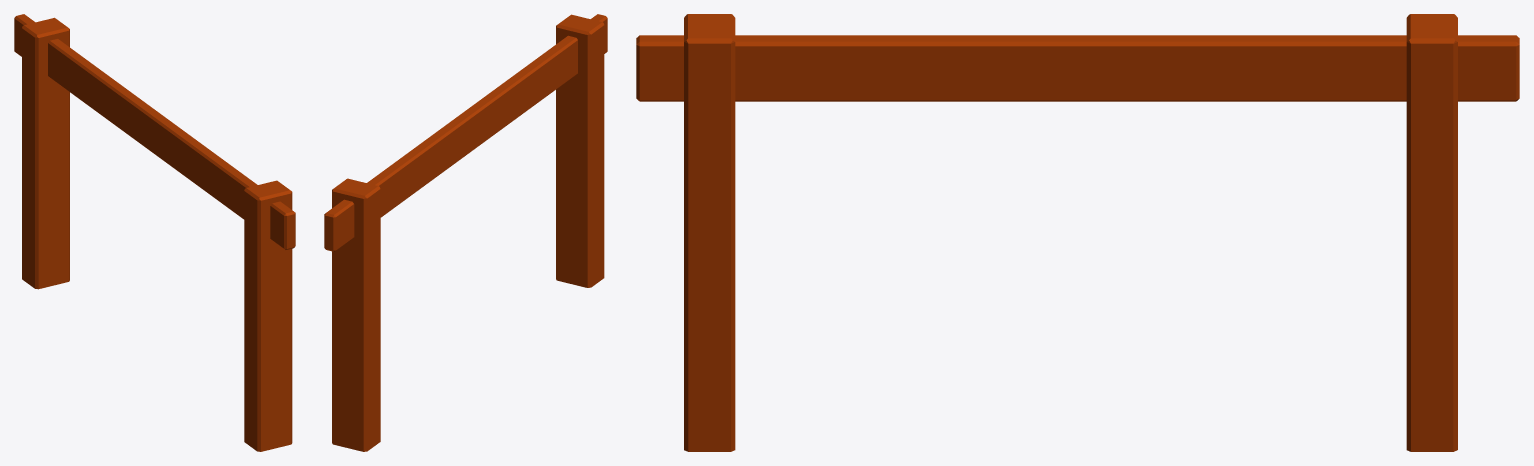
The model's file is WoodFence.fbx.
The picture shows the model from 3 angles, left to right: view 1: azimuth 30°, elevation 25°; view 2: azimuth 150°, elevation 25°; view 3: azimuth 270°, elevation 25°; orthographic projection. The views are drawn at different scales.
Parts seen in each view (by area): view 1: Cube.001; view 2: Cube.001; view 3: Cube.001.
Part boxes in pixels (<box>): Cube.001: <box>14,14,295,451</box>; Cube.001: <box>324,14,607,451</box>; Cube.001: <box>636,14,1519,451</box>.
Size of the model in its own units: 24.55 by 169 by 329.
